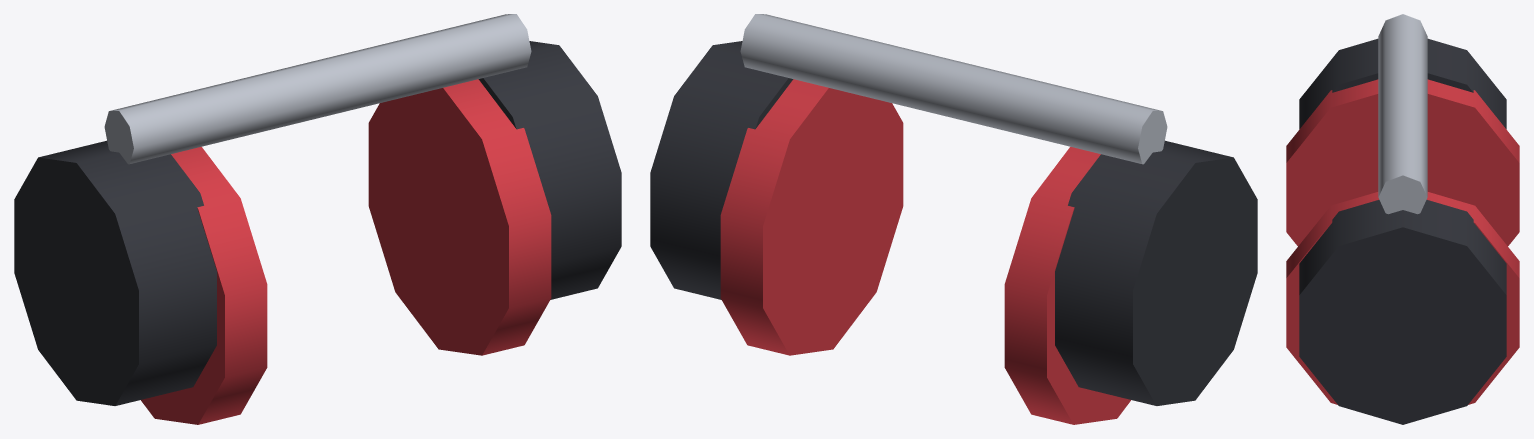
Rendered from dumbbell.glb.
3 views of the same model, side by side, from view 1: azimuth 30°, elevation 25°; view 2: azimuth 150°, elevation 25°; view 3: azimuth 270°, elevation 25° (orthographic). The views are drawn at different scales.
Parts seen in each view (by area): view 1: root; view 2: root; view 3: root.
Boxes of the visible parts, x1,y1,x2,y2 form: root: [14, 14, 621, 424]; root: [650, 14, 1257, 424]; root: [1286, 14, 1519, 424].
Bounding box in the file's own units: 0.34 × 0.213 × 0.1712.
